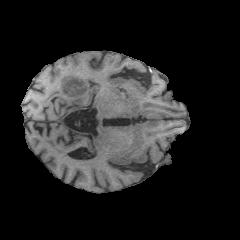glioma: (59, 73, 93, 96)
